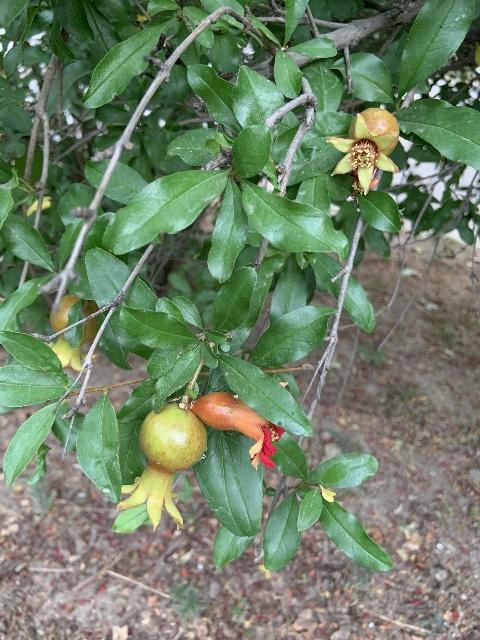early-fruit: (190, 391, 288, 470), (326, 107, 400, 194), (45, 293, 100, 372)
mid-growth: (118, 403, 207, 530)
